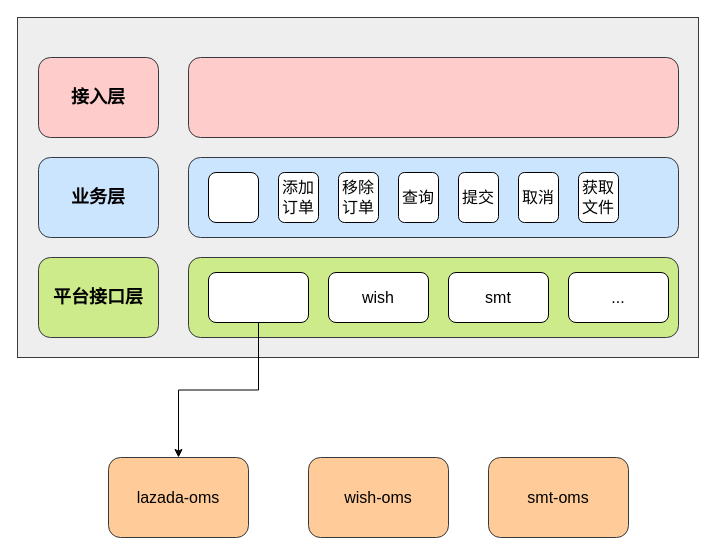
The diagram is 716 pixels wide and 555 high, and some of its shapes have lost their labels. Each missing label, with the box of its shape:
lazada: (208, 272, 308, 322)
交接单草稿: (208, 172, 258, 222)
